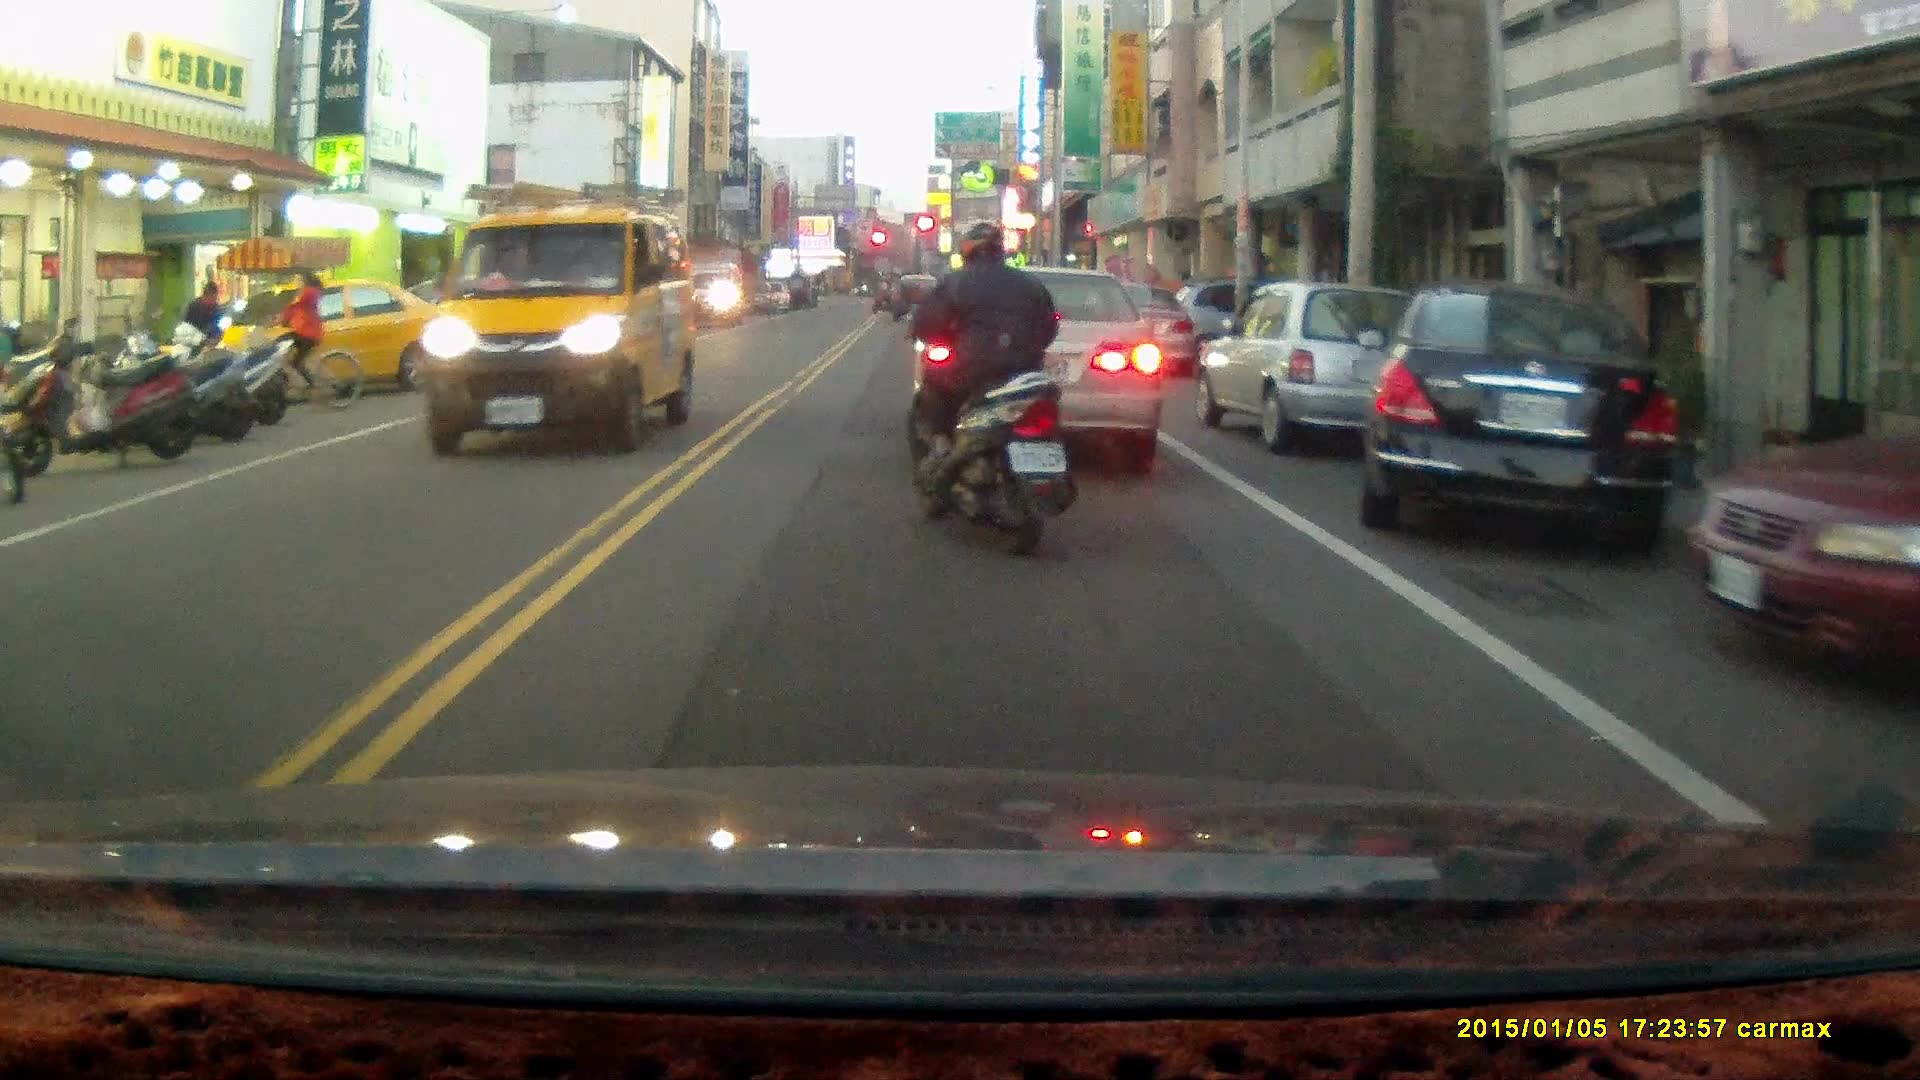pedestrian: (178, 280, 225, 384)
rider: (896, 219, 1080, 563), (246, 269, 360, 420)
vehicle: (1355, 289, 1686, 564), (1677, 365, 1920, 703), (425, 189, 704, 466), (913, 272, 1172, 478), (1195, 281, 1440, 459), (217, 288, 472, 406), (688, 268, 748, 336)
